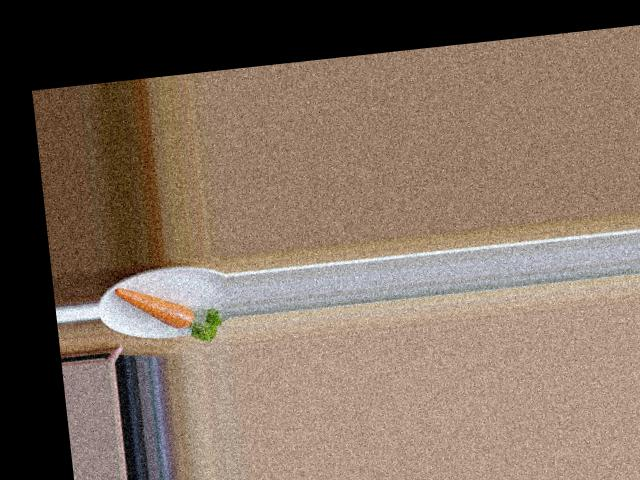carrot: (110, 279, 203, 339)
